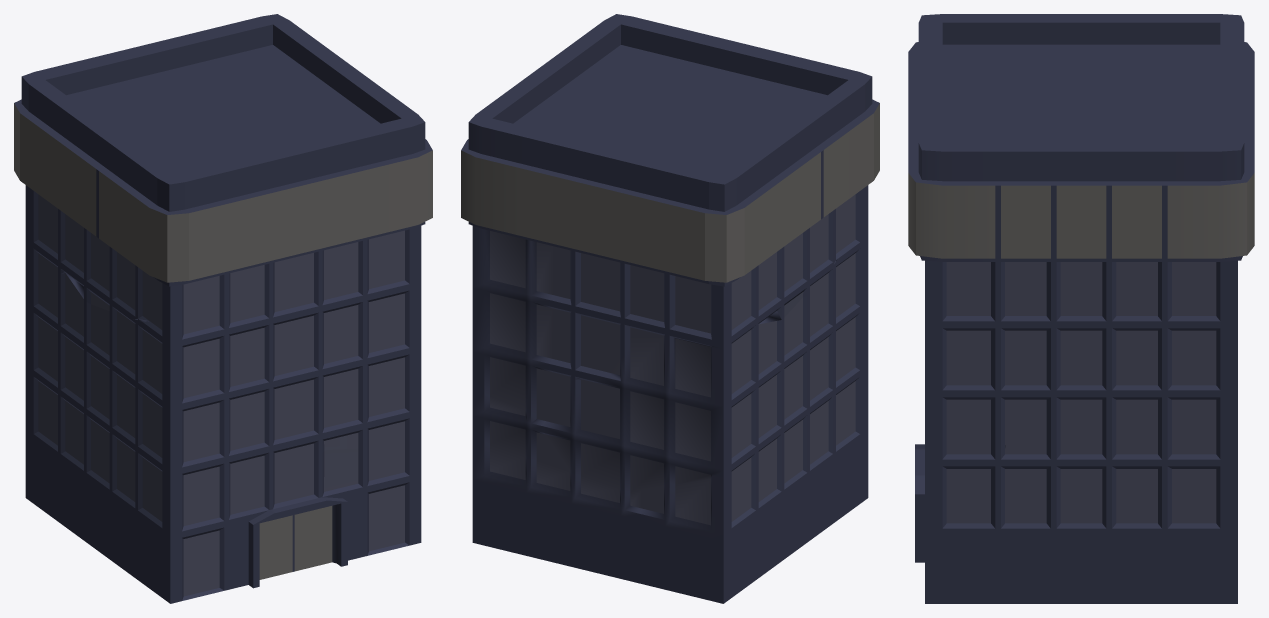
File: Final Office Shatter.fbx
3 views of the same model, side by side, from view 1: azimuth 30°, elevation 25°; view 2: azimuth 150°, elevation 25°; view 3: azimuth 270°, elevation 25° (orthographic). The views are drawn at different scales.
Visible parts, largest first — view 1: polySurface13, polySurface8, polySurface12, polySurface10, polySurface3, polySurface4, polySurface9; view 2: polySurface13, polySurface8, polySurface12, polySurface10, polySurface3, polySurface4, polySurface9; view 3: polySurface12, polySurface4, polySurface13, polySurface9, polySurface10.
Boxes of the visible parts, box(x1,y1,x2,y2) form: polySurface13: box(50, 33, 348, 433); polySurface8: box(25, 243, 348, 488); polySurface12: box(194, 14, 432, 408); polySurface10: box(14, 68, 207, 337); polySurface3: box(25, 369, 268, 603); polySurface4: box(259, 440, 421, 579); polySurface9: box(346, 387, 421, 448); polySurface13: box(543, 33, 841, 426); polySurface8: box(542, 232, 868, 492); polySurface12: box(461, 14, 700, 422); polySurface10: box(688, 67, 879, 348); polySurface3: box(639, 381, 868, 603); polySurface4: box(472, 430, 641, 583); polySurface9: box(472, 383, 544, 462); polySurface12: box(908, 106, 1254, 454); polySurface4: box(915, 447, 1237, 603); polySurface13: box(908, 31, 1254, 136); polySurface9: box(925, 427, 1237, 511); polySurface10: box(908, 14, 1254, 61).
Bounding box in the file's own units: 828 × 1199 × 828.
